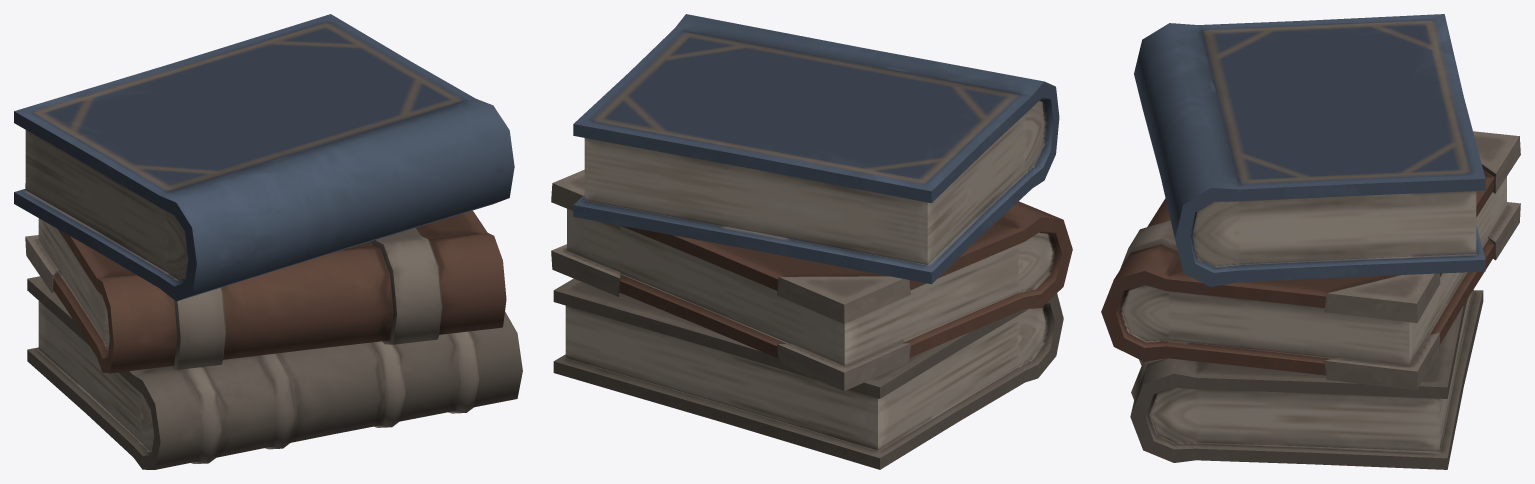
3 renders of one model, left to right at view 1: azimuth 30°, elevation 25°; view 2: azimuth 150°, elevation 25°; view 3: azimuth 270°, elevation 25°, orthographic.
Parts seen in each view (by area): view 1: submesh_0; view 2: submesh_0; view 3: submesh_0.
Part boxes in pixels (box(x1,y1,x2,y2)): submesh_0: box(14, 14, 522, 469); submesh_0: box(551, 14, 1072, 469); submesh_0: box(1101, 14, 1520, 469).
Bounding box in the file's own units: 0.4563 × 0.2981 × 0.4001.
1 material, 1 textured.
